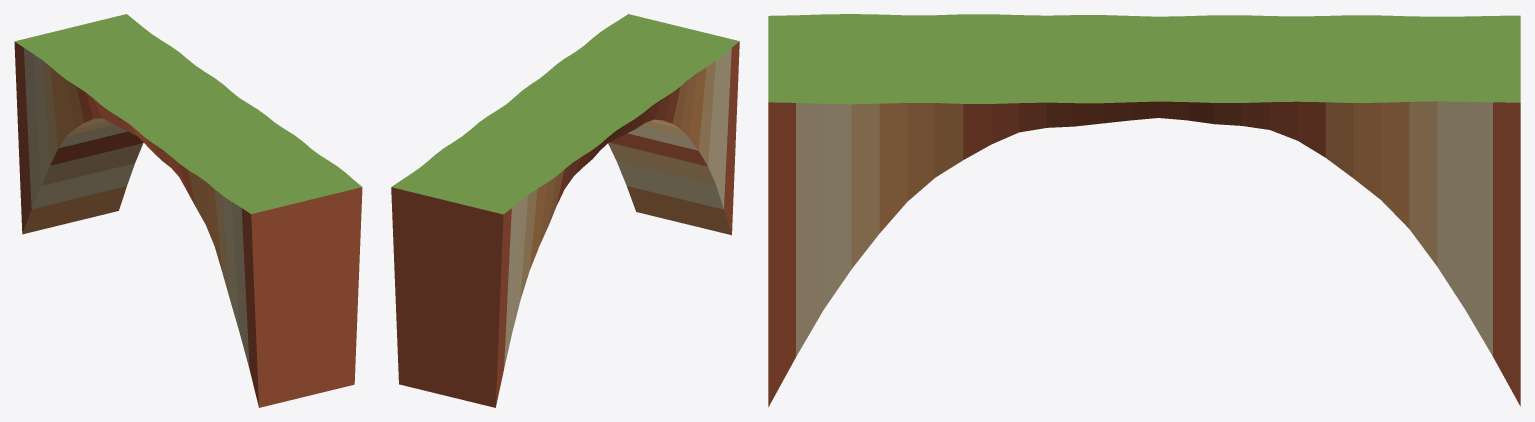
File: ponte_b.glb
The picture shows the model from 3 angles, left to right: view 1: azimuth 30°, elevation 25°; view 2: azimuth 150°, elevation 25°; view 3: azimuth 270°, elevation 25°; orthographic projection. The views are drawn at different scales.
Visible parts, largest first — view 1: ponte_b; view 2: ponte_b; view 3: ponte_b.
Boxes of the visible parts, x1,y1,x2,y2 form: ponte_b: (14,14,362,407); ponte_b: (391,14,739,407); ponte_b: (768,14,1520,406).
Size of the model in its own units: 31.21 by 50.26 by 110.
